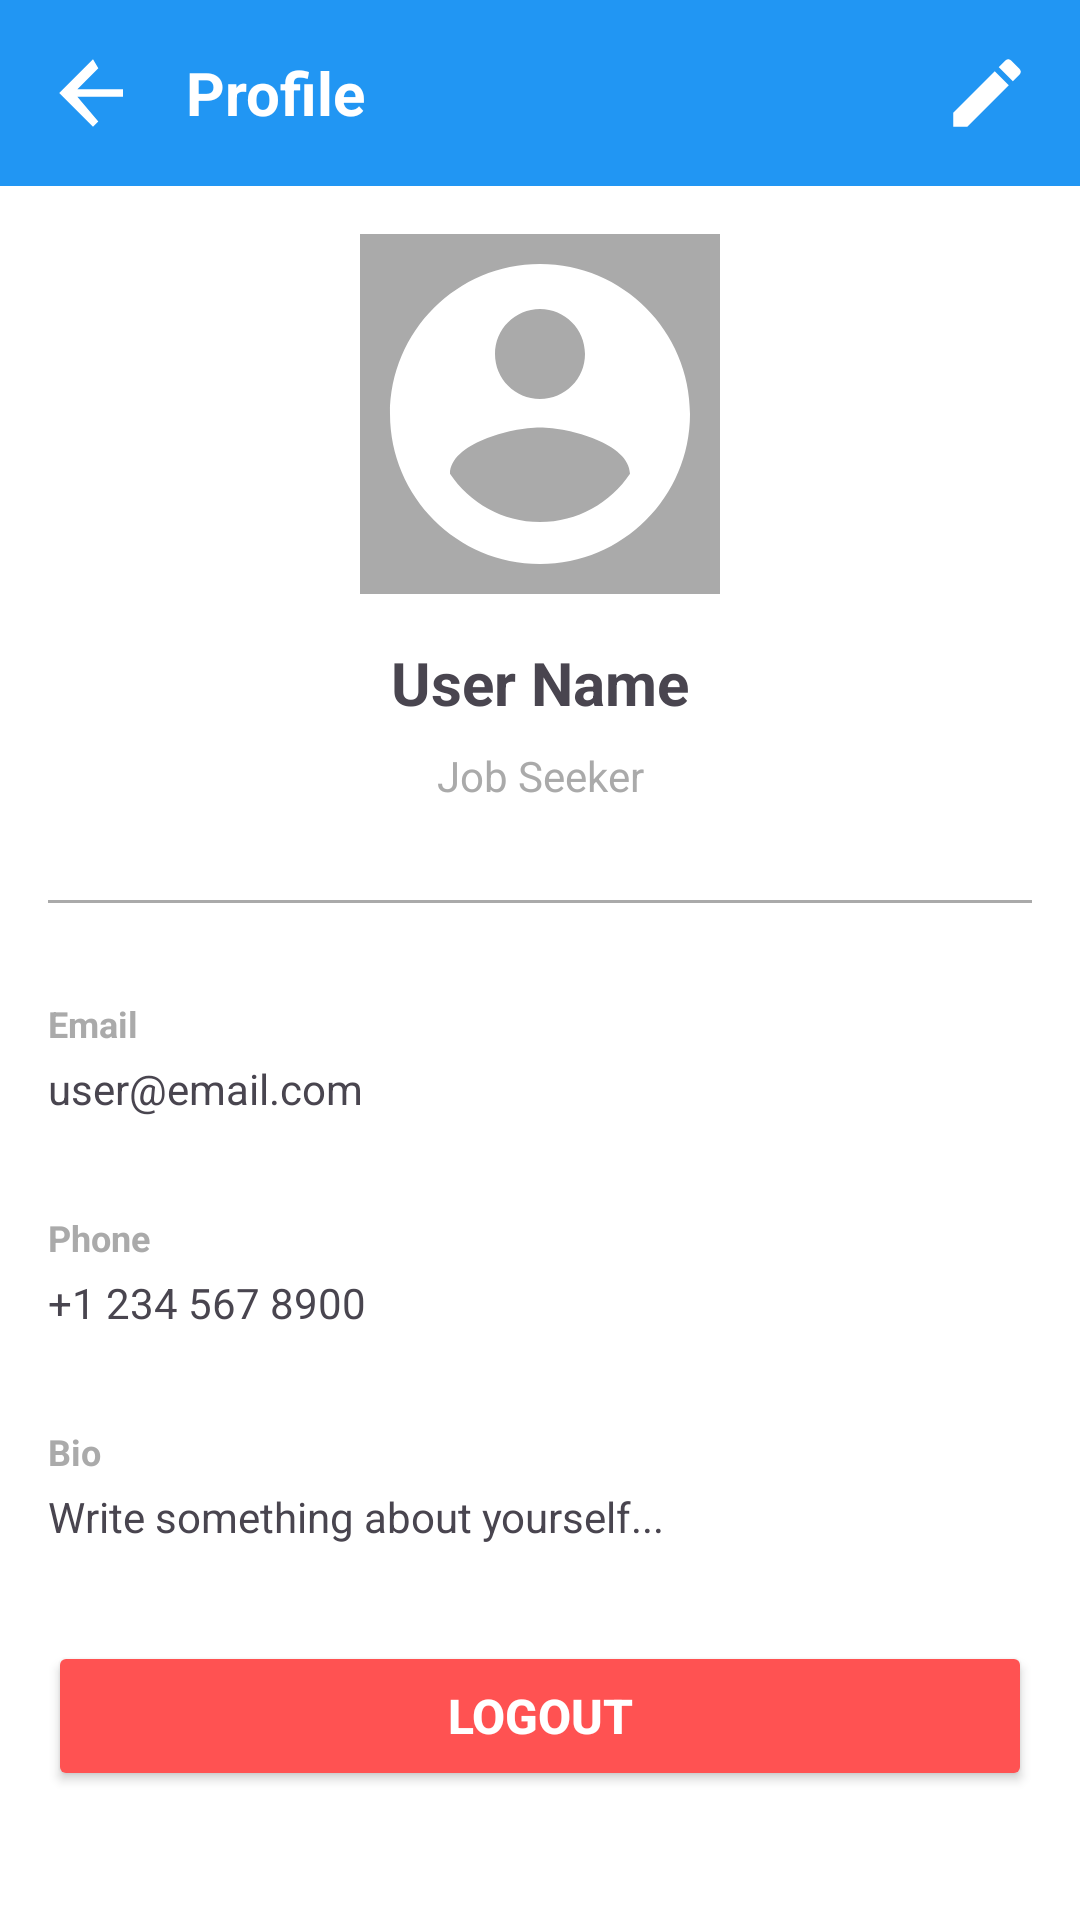

Point at icon controls on the screen. Image size 1080x1920, points as point (x, y).
Back: point (91, 93)
Edit: point (987, 93)
